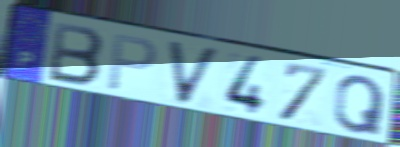4: (221, 52, 268, 119)
7: (280, 61, 329, 124)
B: (46, 20, 106, 89)
P: (105, 32, 160, 94)
Q: (333, 74, 388, 138)
V: (165, 38, 223, 108)
